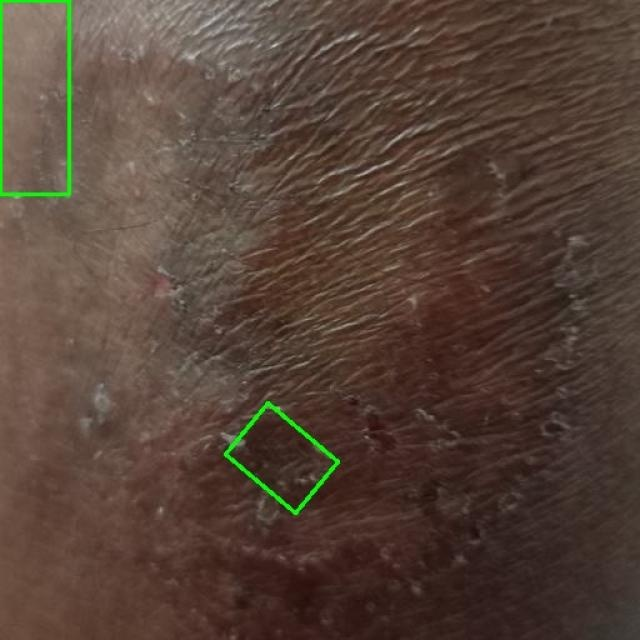Tinea Corporis: (0, 0, 69, 194), (226, 403, 338, 513)
